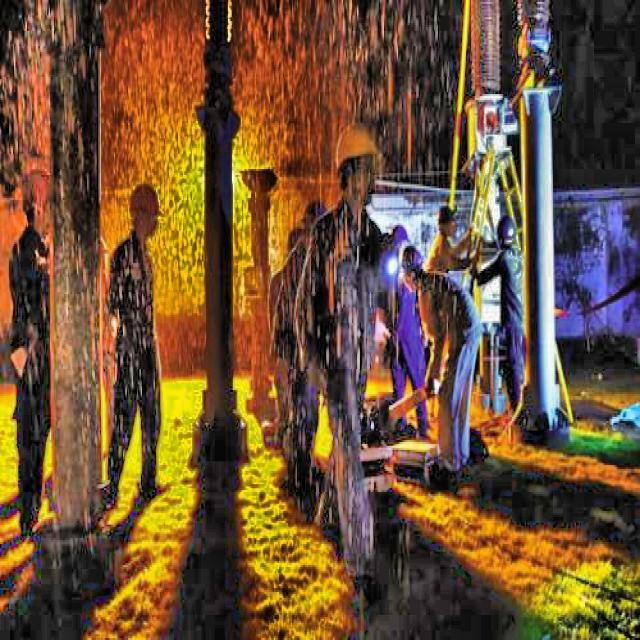helmet: (330, 112, 380, 216), (126, 179, 162, 240), (399, 246, 424, 292), (492, 214, 517, 258)
